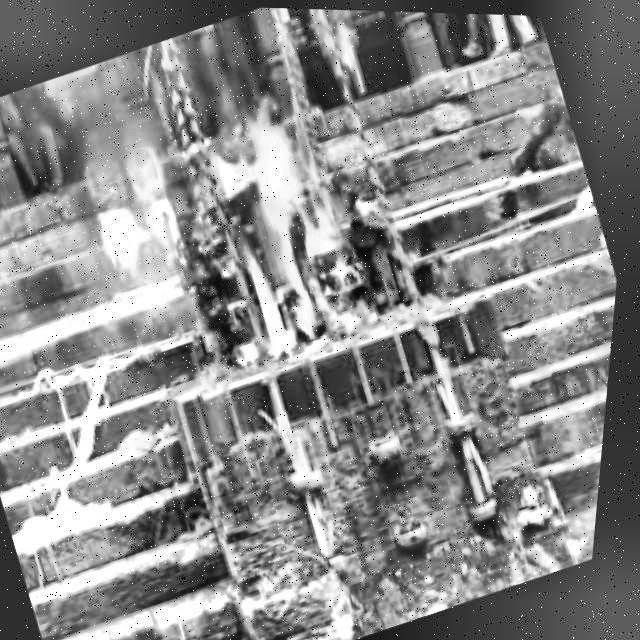Fire: (184, 86, 394, 364)
